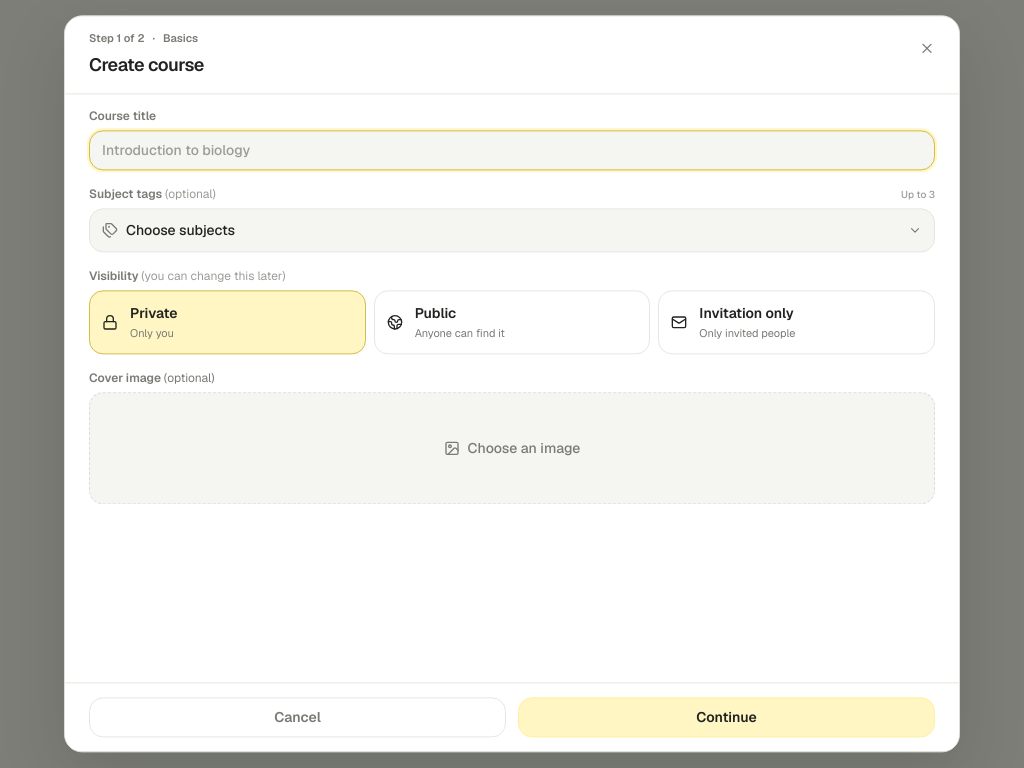
Test case: CreateCourseModal › clears an abandoned draft when cancelled
The width and height of the screenshot is (1024, 768).
Type "Discard me" into the field with placeholder "Introduction to biology" at (512, 150), box left=89, top=130, right=935, bottom=170
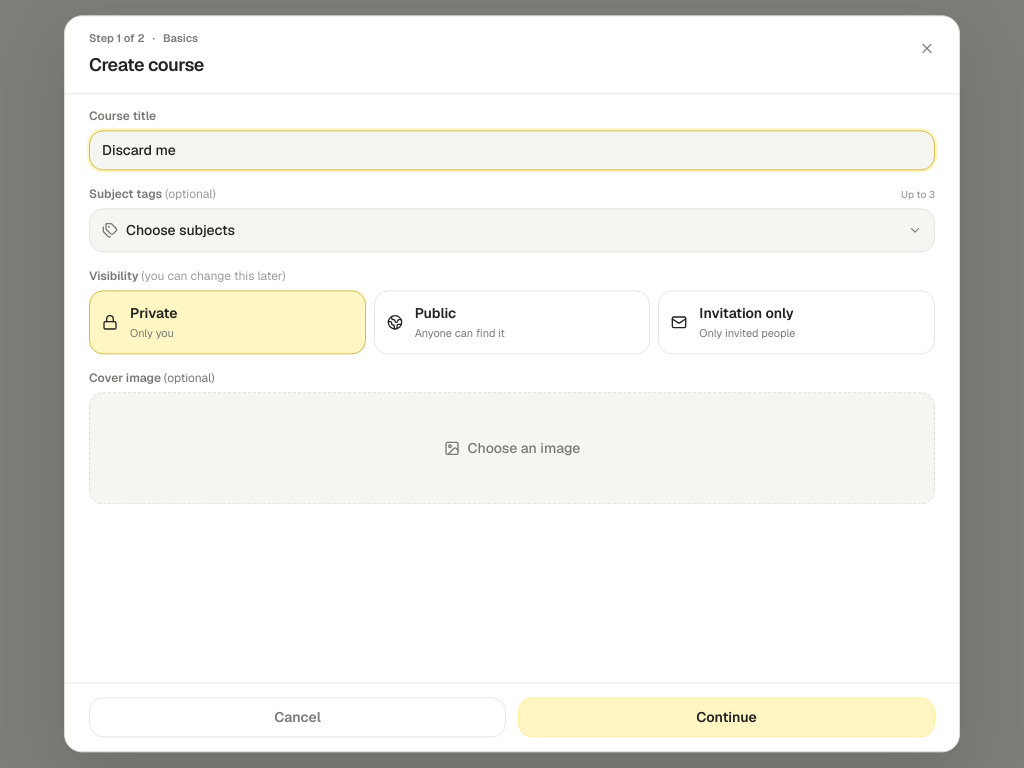
Click the button "Cancel" at (298, 718), box left=89, top=698, right=506, bottom=738
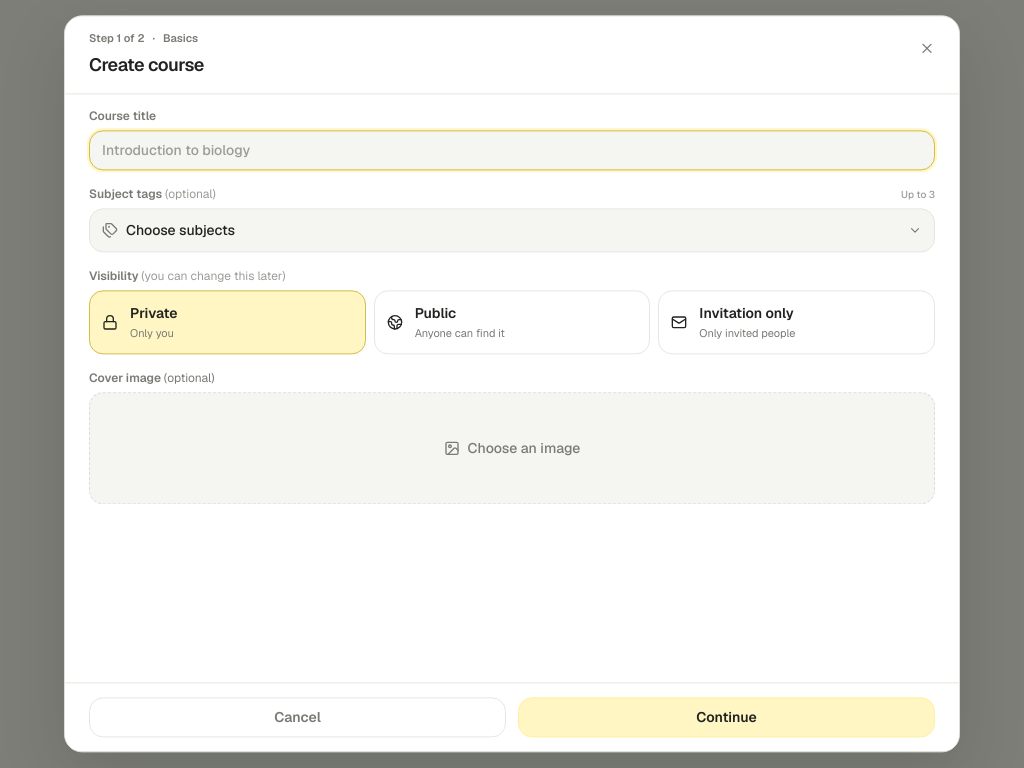
Now the field with placeholder "Introduction to biology" is empty, box left=89, top=130, right=935, bottom=170
